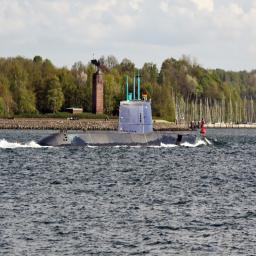submarine: (38, 69, 213, 147)
